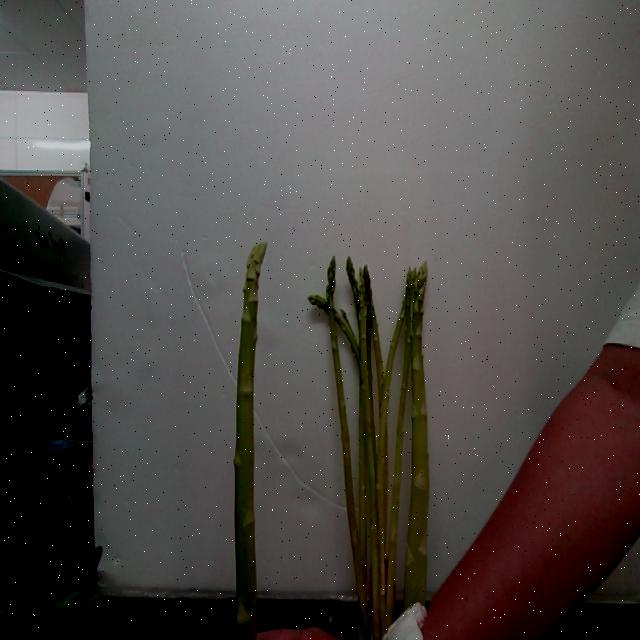aspargus: (235, 244, 269, 640)
